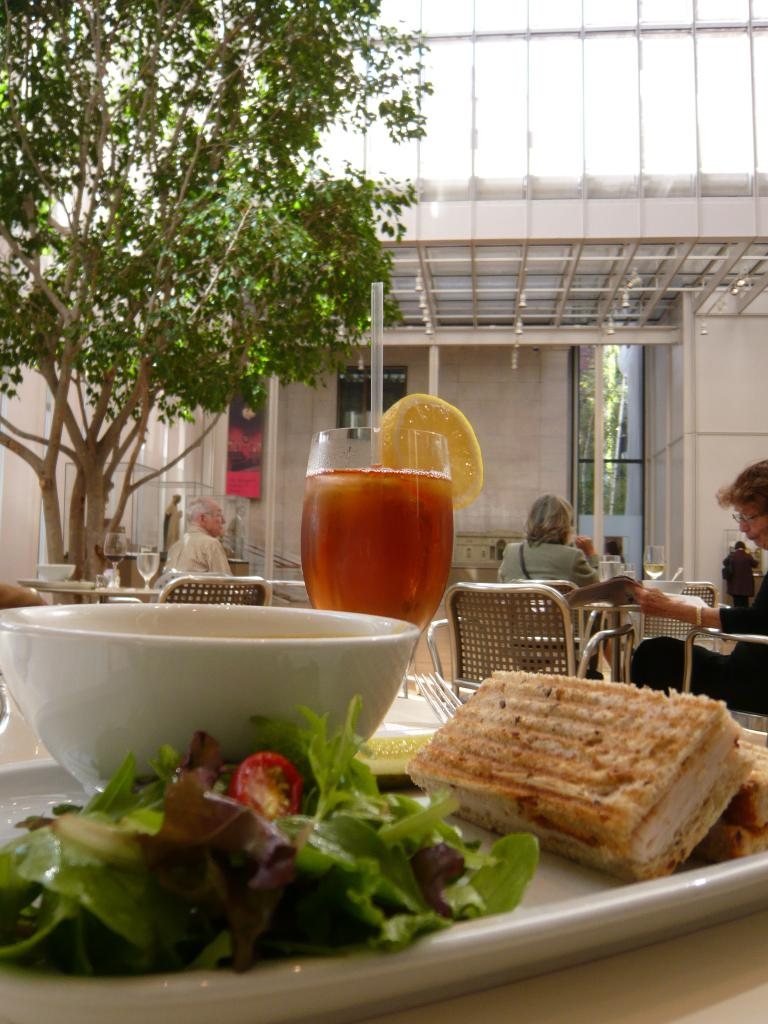sandwich: (402, 666, 767, 883)
